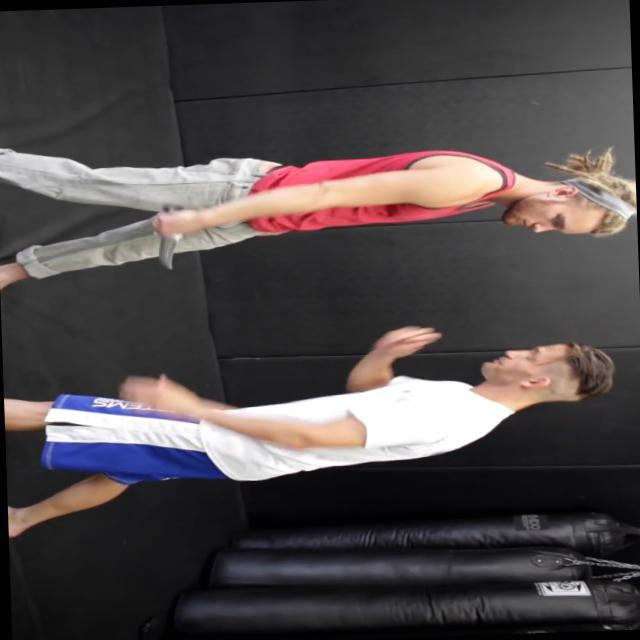knife: (144, 198, 196, 277)
